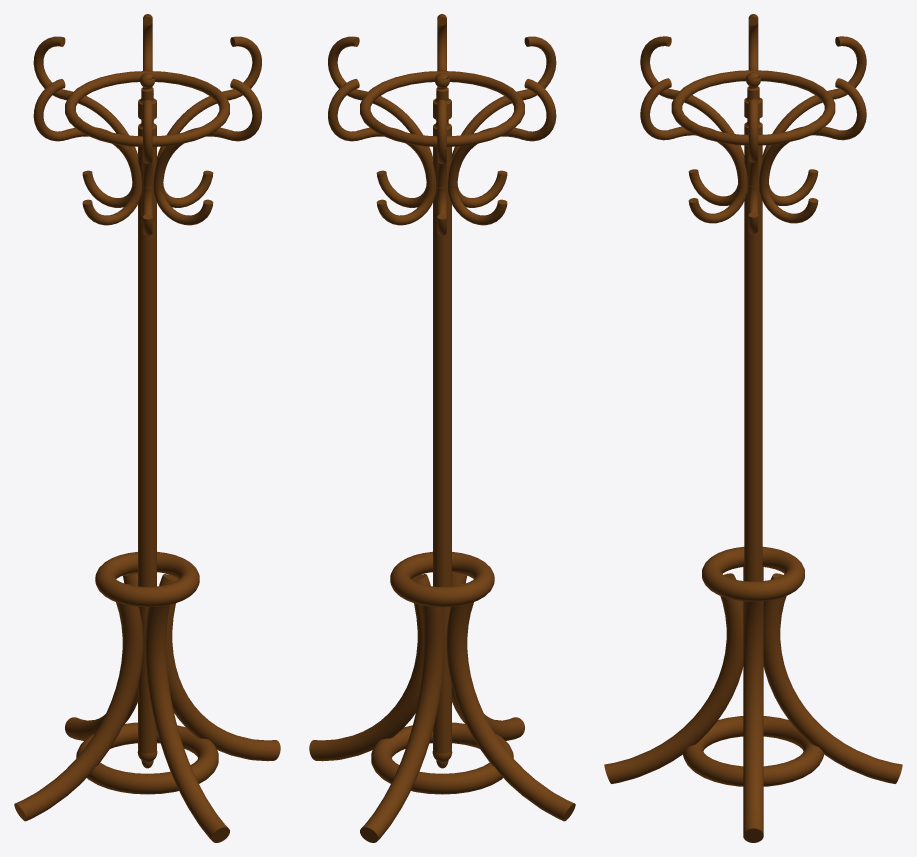
File: Coat_Stand.fbx
The picture shows the model from 3 angles, left to right: view 1: azimuth 30°, elevation 25°; view 2: azimuth 150°, elevation 25°; view 3: azimuth 270°, elevation 25°; orthographic projection.
Visible parts, largest first — view 1: Cylinder, Leg.1, Leg.3, Torus.2, Torus, Torus.1, Leg, Boolean.5, Boolean, Boolean.4, Boolean.1, Boolean.2 (+3 smaller); view 2: Cylinder, Leg.1, Leg.2, Torus.2, Torus, Torus.1, Leg, Boolean.3, Boolean, Boolean.2, Boolean.1, Boolean.4 (+3 smaller); view 3: Cylinder, Leg.3, Leg.2, Leg, Torus.1, Torus.2, Torus, Boolean.3, Boolean.5, Boolean.2, Boolean.4, Boolean.1 (+2 smaller).
Boxes of the visible parts, x1,y1,x2,y2 form: Cylinder: (138, 128, 156, 753); Leg.1: (14, 584, 143, 821); Leg.3: (145, 605, 229, 842); Torus.2: (65, 71, 229, 146); Torus: (95, 551, 199, 607); Torus.1: (76, 722, 218, 794); Leg: (159, 574, 280, 761); Boolean.5: (153, 79, 261, 225); Boolean: (33, 79, 141, 225); Boolean.4: (33, 36, 137, 207); Boolean.1: (157, 36, 261, 207); Boolean.2: (143, 100, 152, 235); Cylinder: (433, 128, 451, 753); Leg.1: (446, 584, 575, 821); Leg.2: (360, 605, 444, 842); Torus.2: (360, 71, 524, 146); Torus: (390, 551, 494, 607); Torus.1: (371, 722, 513, 794); Leg: (309, 574, 430, 761); Boolean.3: (328, 79, 436, 225); Boolean: (448, 79, 556, 225); Boolean.2: (452, 36, 556, 207); Boolean.1: (328, 36, 432, 207); Boolean.4: (437, 100, 446, 235); Cylinder: (744, 127, 762, 581); Leg.3: (604, 573, 743, 783); Leg.2: (763, 573, 902, 783); Leg: (743, 601, 763, 842); Torus.1: (683, 716, 823, 786); Torus.2: (671, 70, 835, 145); Torus: (702, 546, 804, 601); Boolean.3: (759, 78, 866, 223); Boolean.5: (640, 78, 747, 223); Boolean.2: (640, 36, 744, 205); Boolean.4: (762, 36, 866, 205); Boolean.1: (748, 99, 758, 233).
Size of the model in its own units: 85.23 by 229 by 85.23.
